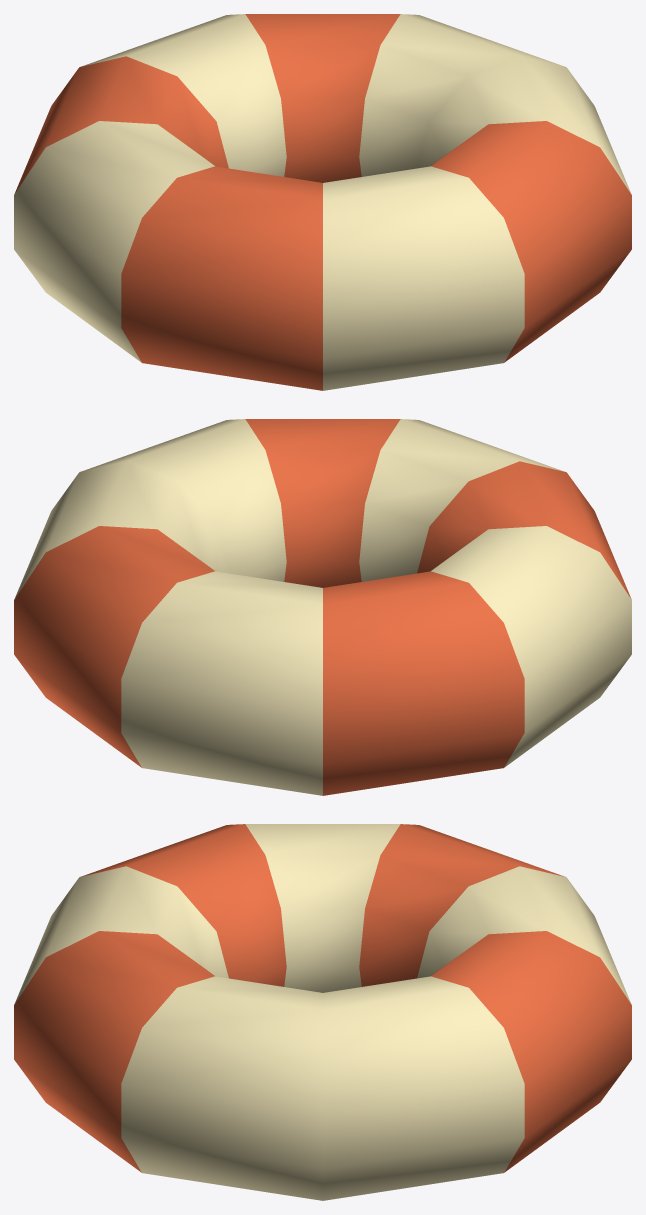
The model's file is SM_Buoy_002.fbx.
3 views of the same model, one above another, from view 1: azimuth 30°, elevation 25°; view 2: azimuth 150°, elevation 25°; view 3: azimuth 270°, elevation 25° (orthographic).
Parts seen in each view (by area): view 1: Buoy_002; view 2: Buoy_002; view 3: Buoy_002.
Boxes of the visible parts, x1,y1,x2,y2 form: Buoy_002: (14, 14, 631, 390); Buoy_002: (14, 419, 631, 795); Buoy_002: (14, 824, 631, 1200).
Bounding box in the file's own units: 158 × 54.64 × 161.
Materials: 1 (1 with a texture image).
